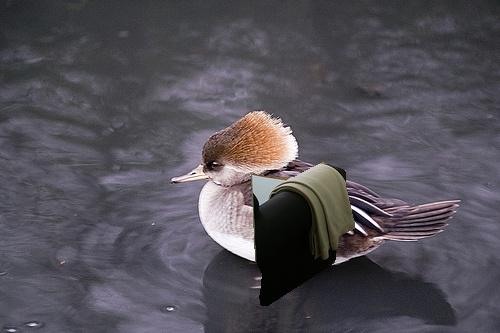tampered: (252, 163, 355, 306)
